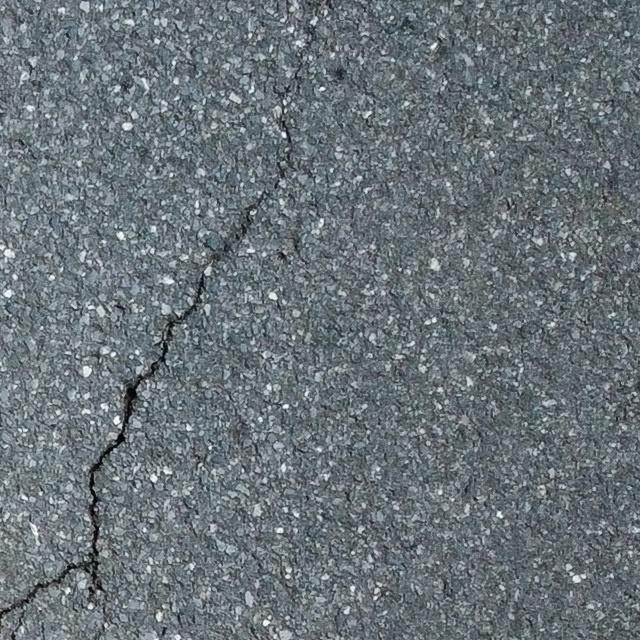LongitudinalCrack: (1, 101, 292, 640)
